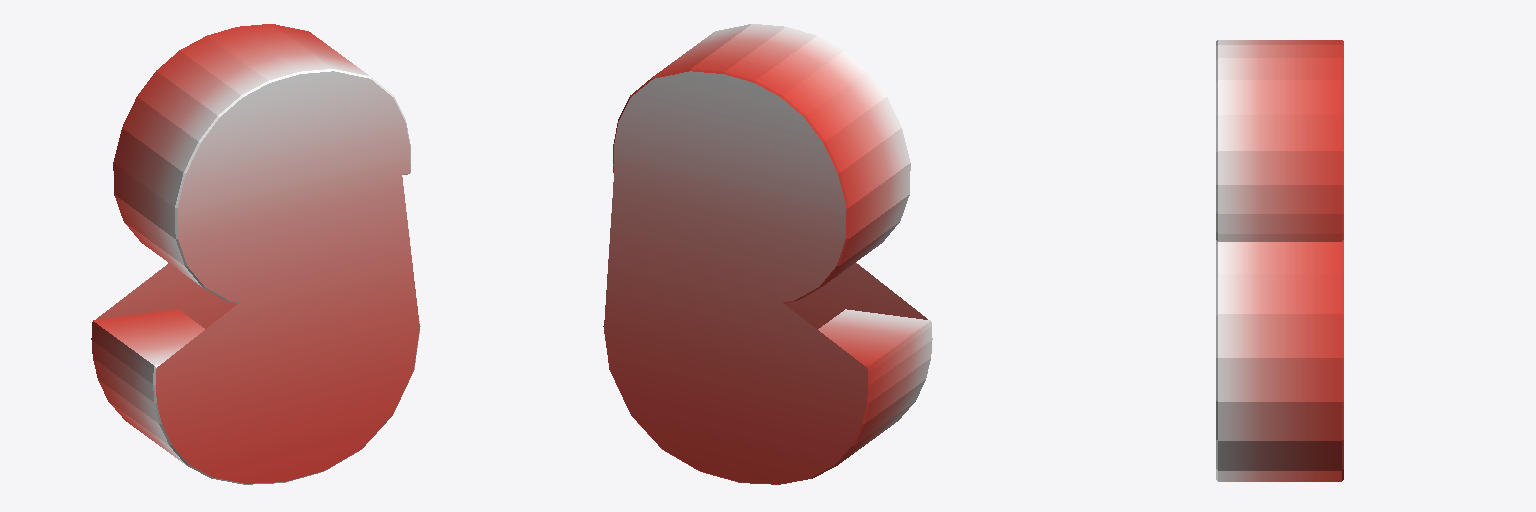
3 views of the same model, side by side, from view 1: azimuth 30°, elevation 25°; view 2: azimuth 150°, elevation 25°; view 3: azimuth 270°, elevation 25° (orthographic).
Parts seen in each view (by area): view 1: polySurface21; view 2: polySurface21; view 3: polySurface21.
Part boxes in pixels (x1,y1,x2,y2): polySurface21: (91, 24, 420, 484); polySurface21: (603, 24, 932, 484); polySurface21: (1216, 40, 1343, 481).
Size of the model in its own units: 1.6 by 2.33 by 0.6578.
1 materials, 1 textured.